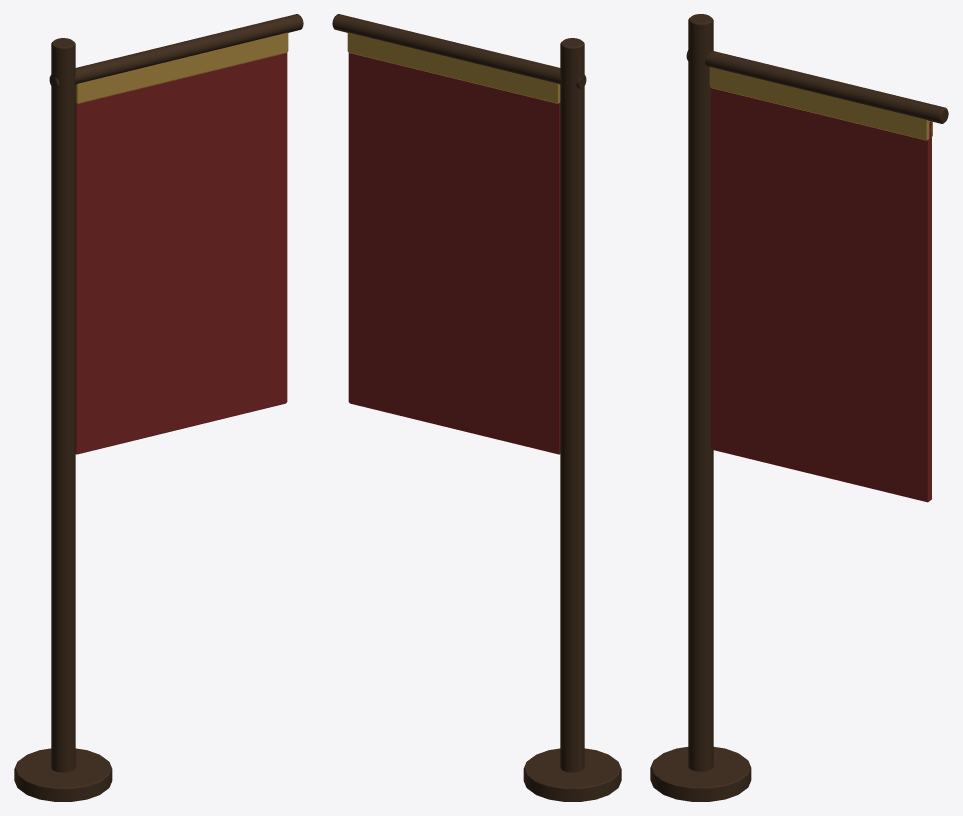
File: banner.416eb78b.glb
3 views of the same model, side by side, from view 1: azimuth 30°, elevation 25°; view 2: azimuth 150°, elevation 25°; view 3: azimuth 330°, elevation 25° (orthographic). The views are drawn at different scales.
Parts seen in each view (by area): view 1: body; view 2: body; view 3: body.
Boxes of the visible parts, bbox=[...] form: body: bbox=[14, 14, 303, 801]; body: bbox=[332, 14, 621, 801]; body: bbox=[650, 14, 948, 801].
Bounding box in the file's own units: 0.7882 × 2 × 0.24.
